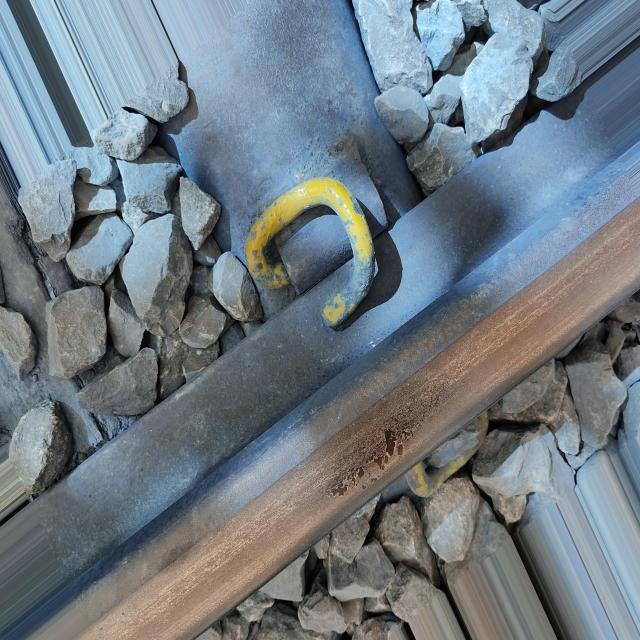Good Fasteners: (241, 177, 377, 328)
